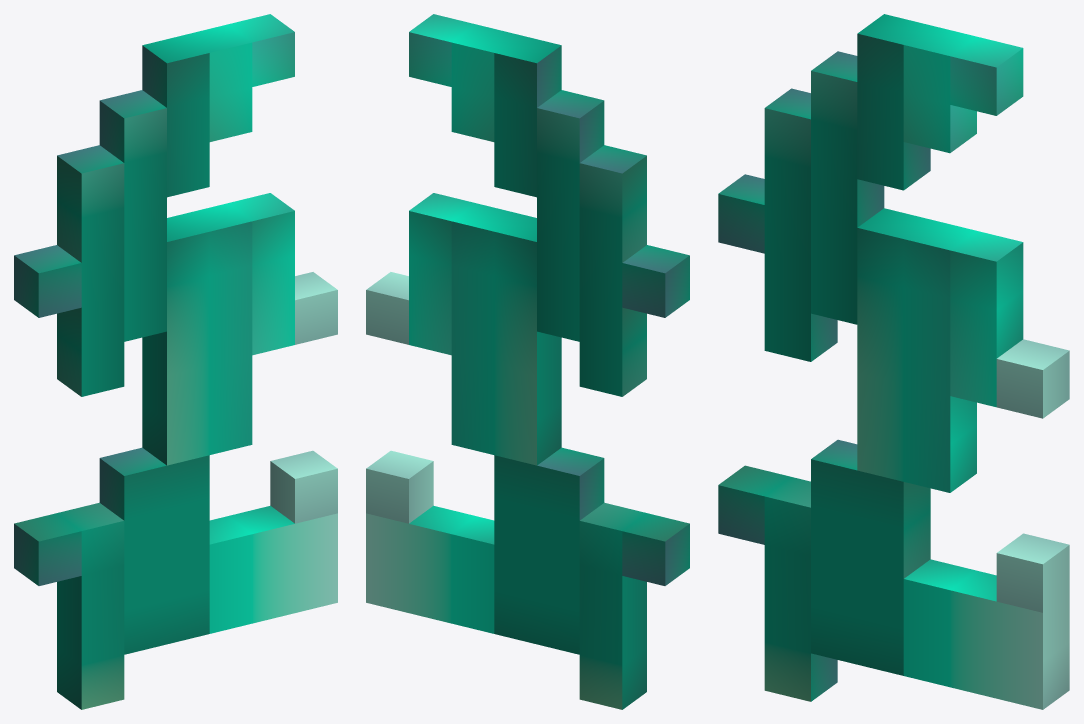
Rendered from BillboardModule_ChineseSymbol_I_00.fbx.
3 renders of one model, left to right at view 1: azimuth 30°, elevation 25°; view 2: azimuth 150°, elevation 25°; view 3: azimuth 330°, elevation 25°, orthographic. The views are drawn at different scales.
Parts seen in each view (by area): view 1: BillboardModule_ChineseSymbol_I_00; view 2: BillboardModule_ChineseSymbol_I_00; view 3: BillboardModule_ChineseSymbol_I_00.
Part boxes in pixels (x1,y1,x2,y2): BillboardModule_ChineseSymbol_I_00: (14,14,337,709); BillboardModule_ChineseSymbol_I_00: (366,14,689,709); BillboardModule_ChineseSymbol_I_00: (718,14,1069,709).
Size of the model in its own units: 35 by 70 by 5.
